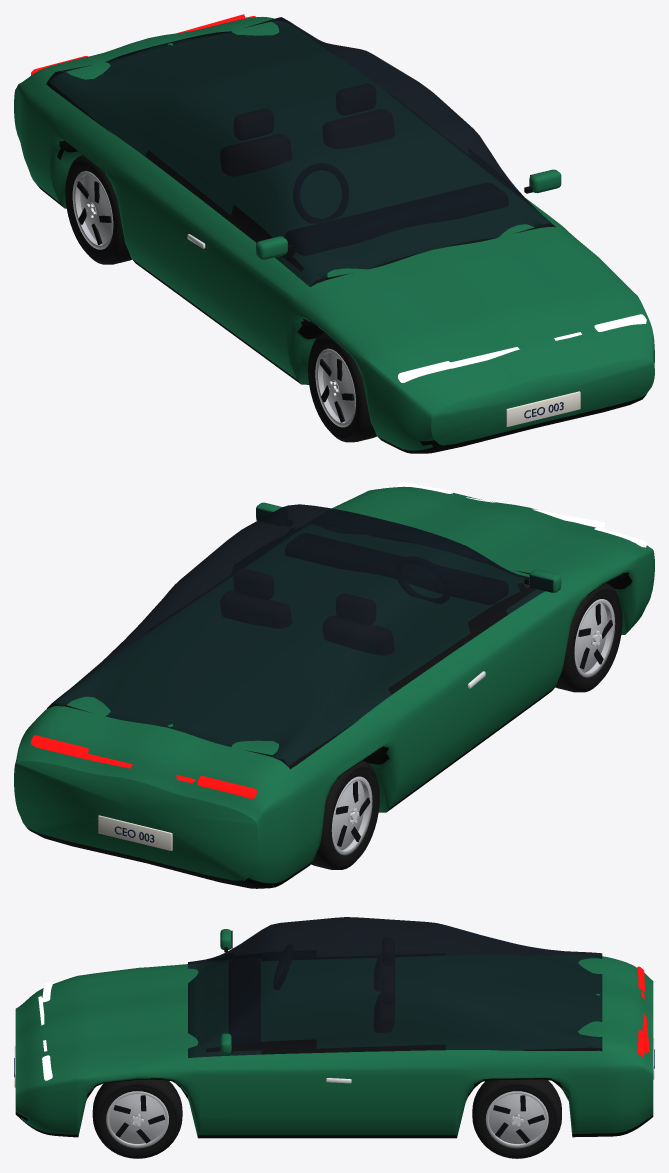
The model's file is volt_verde.glb.
3 renders of one model, top to bottom at view 1: azimuth 30°, elevation 25°; view 2: azimuth 150°, elevation 25°; view 3: azimuth 270°, elevation 25°, orthographic. The views are drawn at different scales.
Visible parts, largest first — view 1: body, wheel_FL, wheel_RL; view 2: body, wheel_RL, wheel_FL; view 3: body, wheel_RR, wheel_FR.
Boxes of the visible parts, <box> form: body: <box>14,14,654,453</box>; wheel_FL: <box>308,332,376,442</box>; wheel_RL: <box>65,155,131,264</box>; body: <box>14,482,654,888</box>; wheel_RL: <box>311,760,379,869</box>; wheel_FL: <box>555,583,622,692</box>; body: <box>14,917,654,1138</box>; wheel_RR: <box>472,1079,561,1158</box>; wheel_FR: <box>92,1079,182,1158</box>.
Size of the model in its own units: 2.13 by 1.43 by 5.
